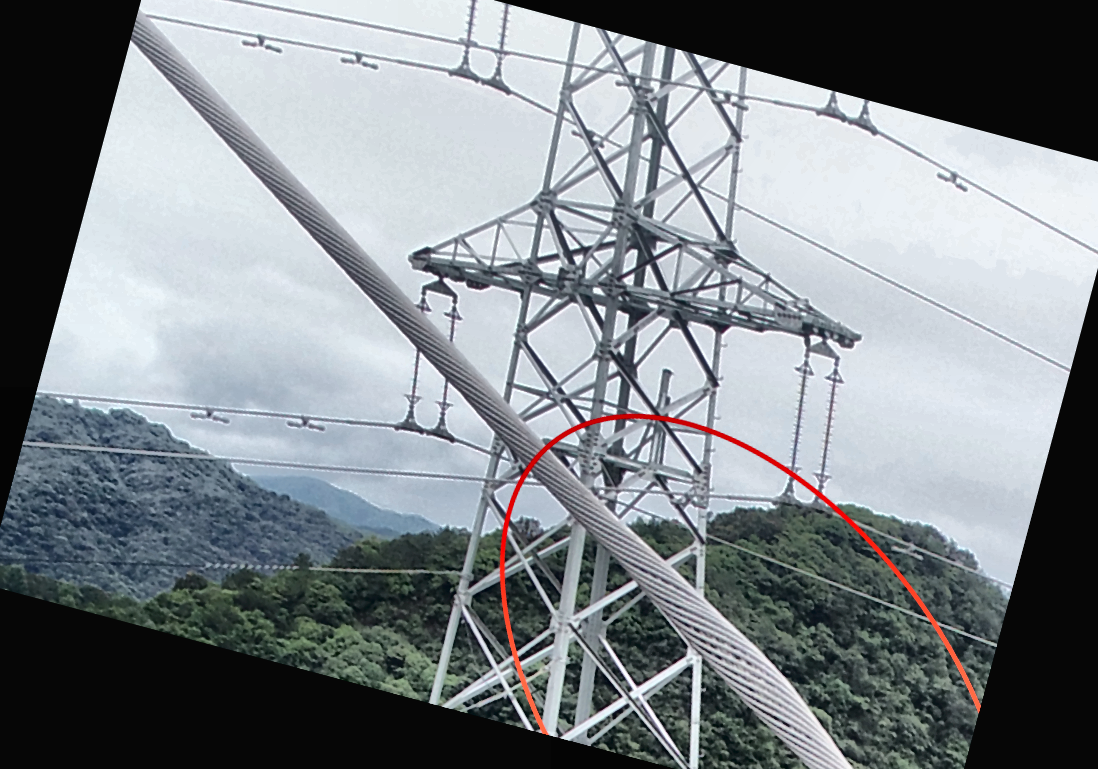damper: (239, 32, 284, 55), (186, 404, 233, 426), (338, 49, 380, 71), (284, 413, 328, 433), (935, 167, 970, 192), (887, 539, 928, 560)
